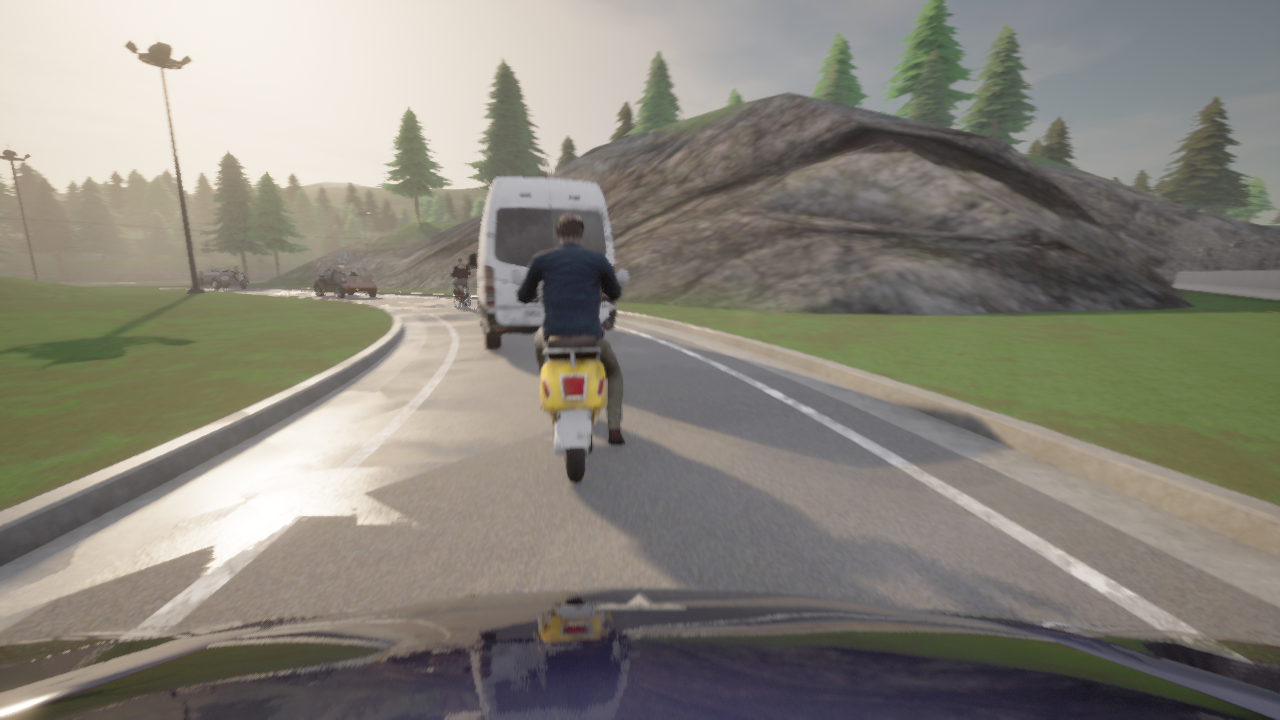cyclist: (0, 588, 1279, 719), (510, 268, 629, 481), (468, 178, 615, 348), (314, 265, 377, 297), (197, 264, 249, 289), (454, 285, 469, 310)
